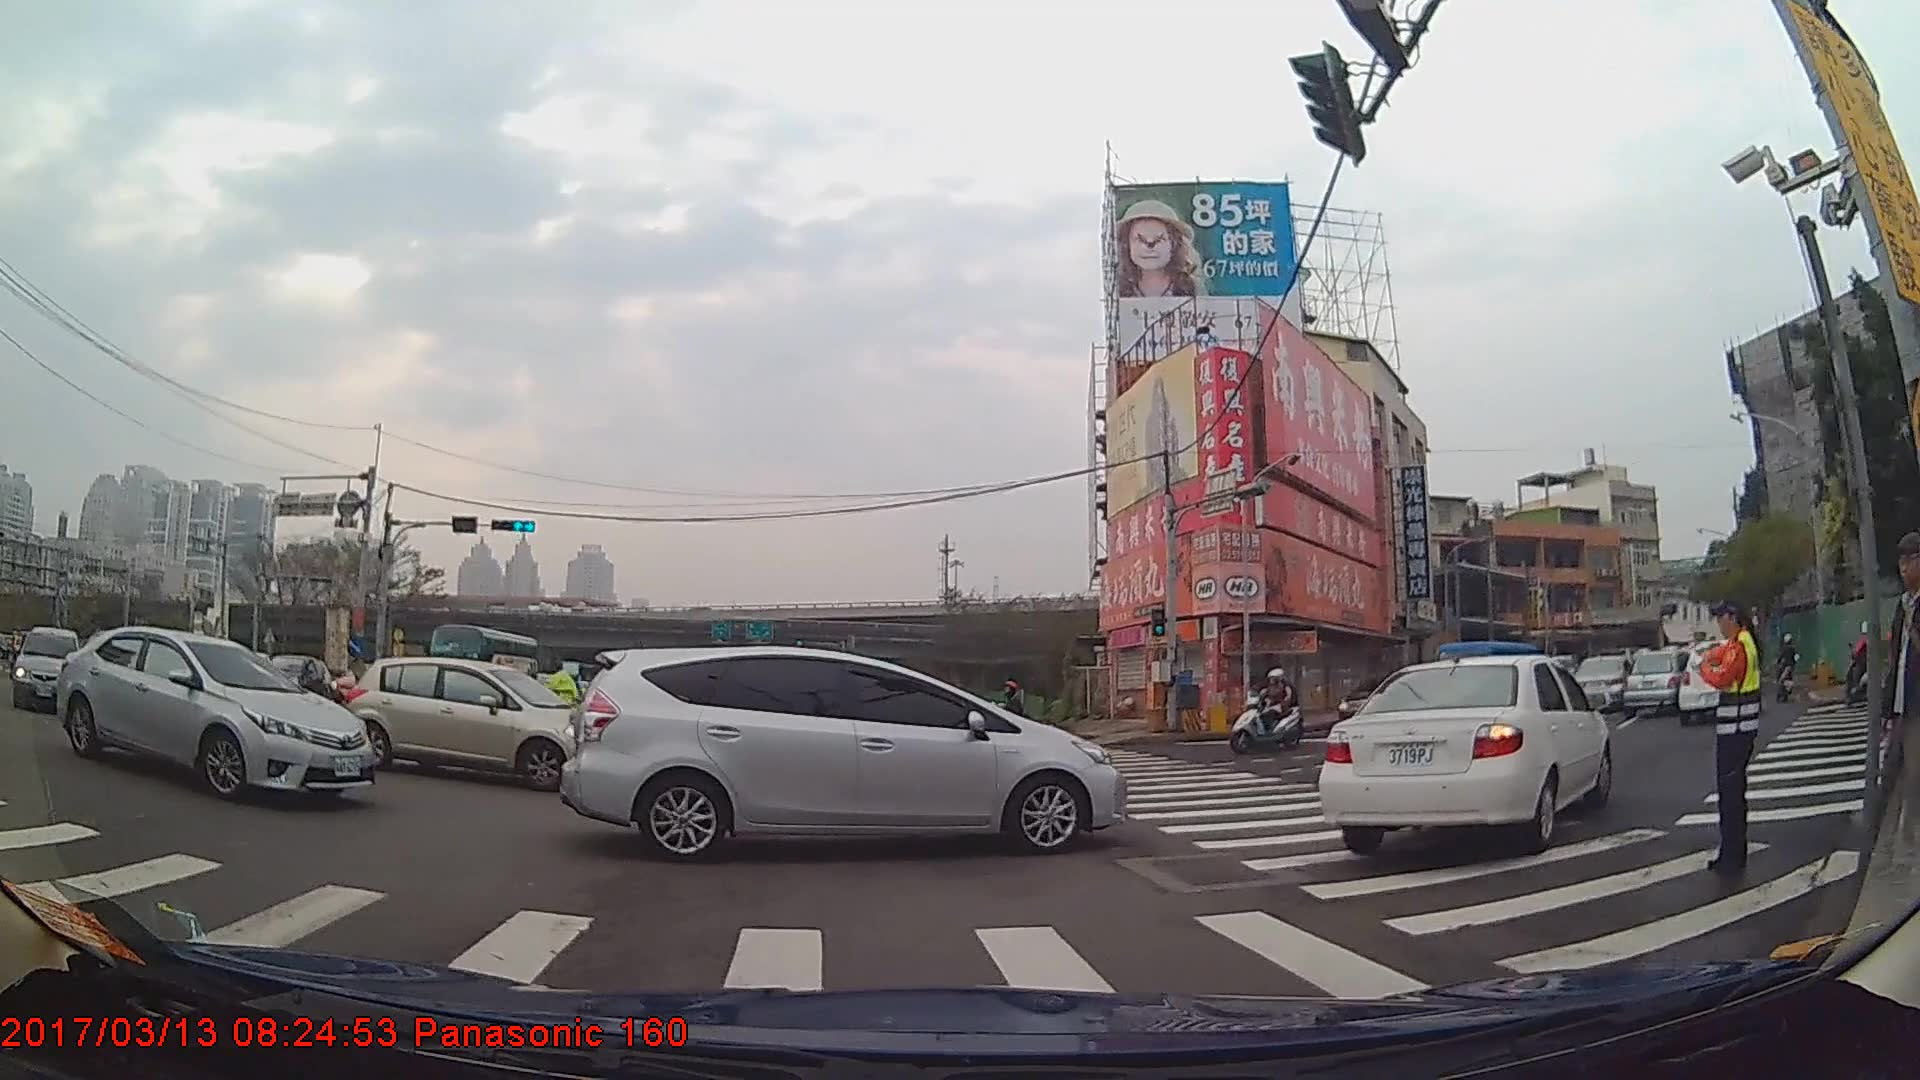pedestrian: (1694, 587, 1764, 876), (1879, 530, 1920, 886)
rider: (1231, 665, 1304, 752), (1842, 621, 1887, 704), (1776, 634, 1798, 701)
vehicle: (558, 645, 1125, 861), (1316, 649, 1611, 854), (49, 625, 377, 804), (339, 654, 606, 789), (425, 621, 537, 703), (12, 626, 84, 712), (1619, 648, 1692, 716), (1570, 654, 1638, 712)
